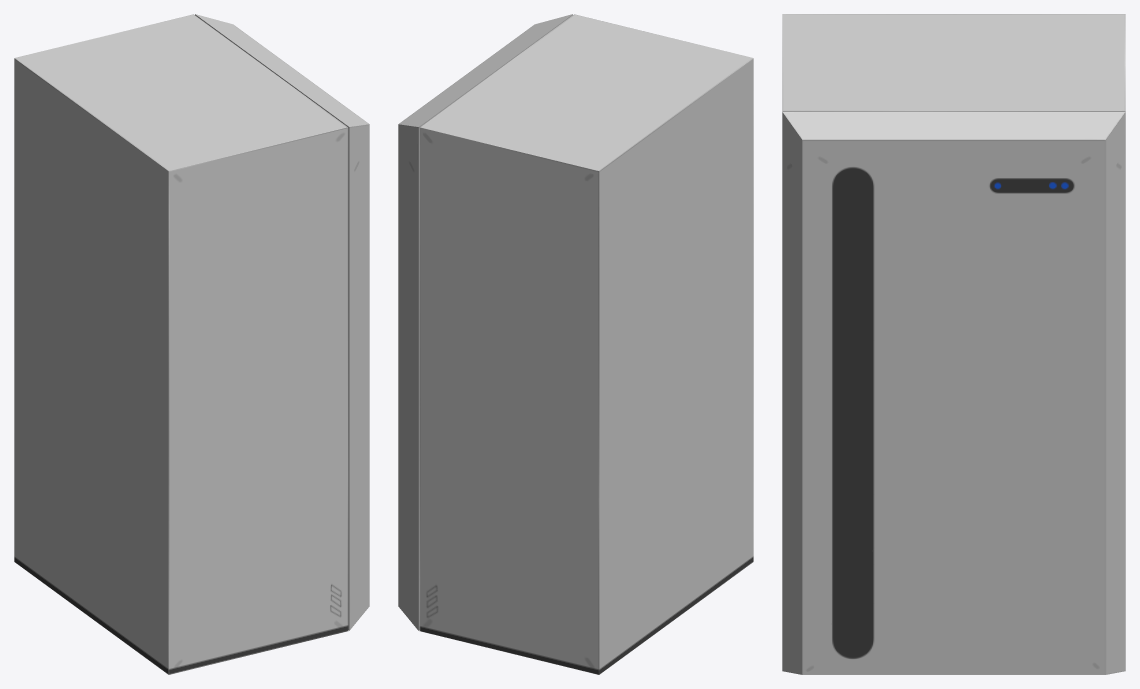
Rendered from Cooler.fbx.
The picture shows the model from 3 angles, left to right: view 1: azimuth 30°, elevation 25°; view 2: azimuth 150°, elevation 25°; view 3: azimuth 270°, elevation 25°; orthographic projection. The views are drawn at different scales.
Visible parts, largest first — view 1: Cooler, Door; view 2: Cooler, Door; view 3: Door, Cooler.
Boxes of the visible parts, x1,y1,x2,y2 form: Cooler: (14, 14, 348, 674); Door: (195, 14, 369, 630); Cooler: (419, 14, 753, 674); Door: (398, 14, 572, 630); Door: (782, 112, 1125, 674); Cooler: (782, 14, 1125, 111).
Size of the model in its own units: 1.25 by 2.86 by 1.59.
